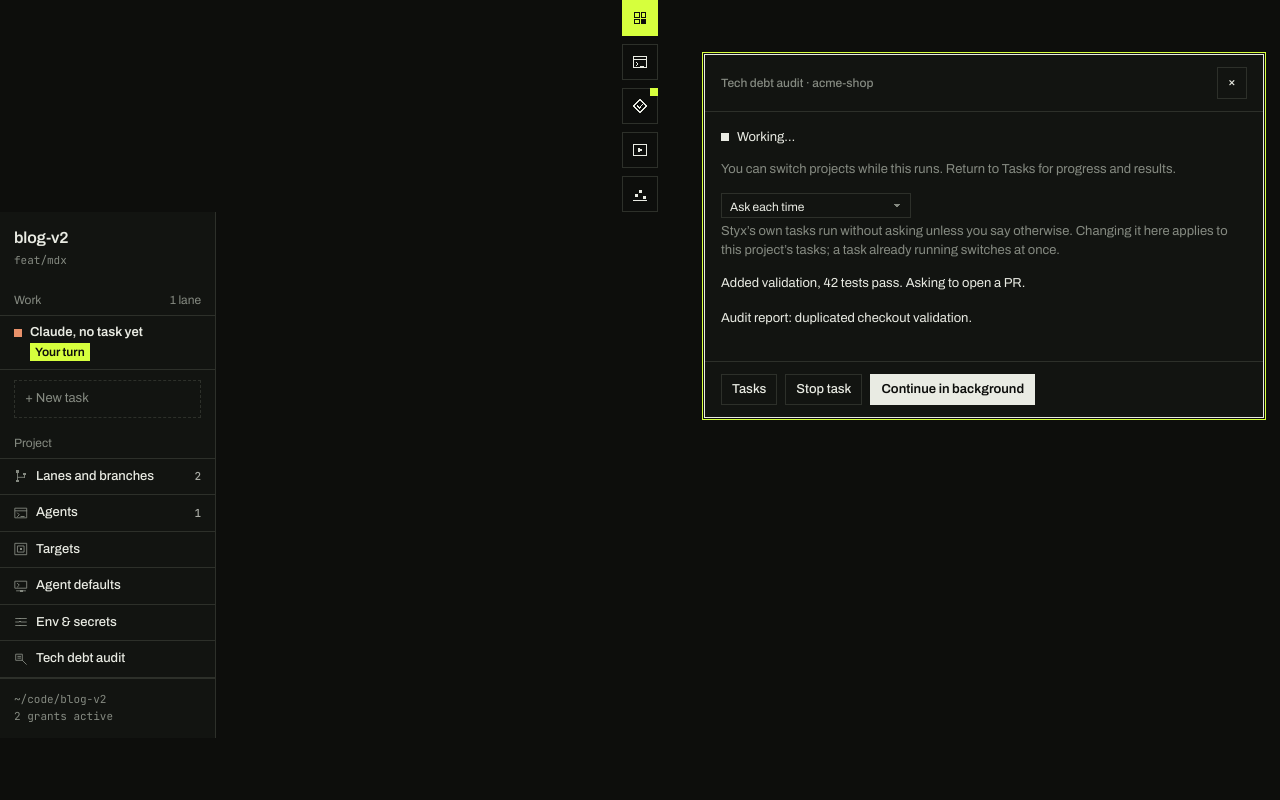
Test: background tasks › keeps the dialog modeless, supports switching project, minimizing and reopening
The width and height of the screenshot is (1280, 800).
Expected: the dialog shows "acme-shop", top-left (803, 76), bottom-right (873, 90)
Click the button "Continue in background". click: [953, 389]
box: top-left (870, 374), bottom-right (1035, 405)
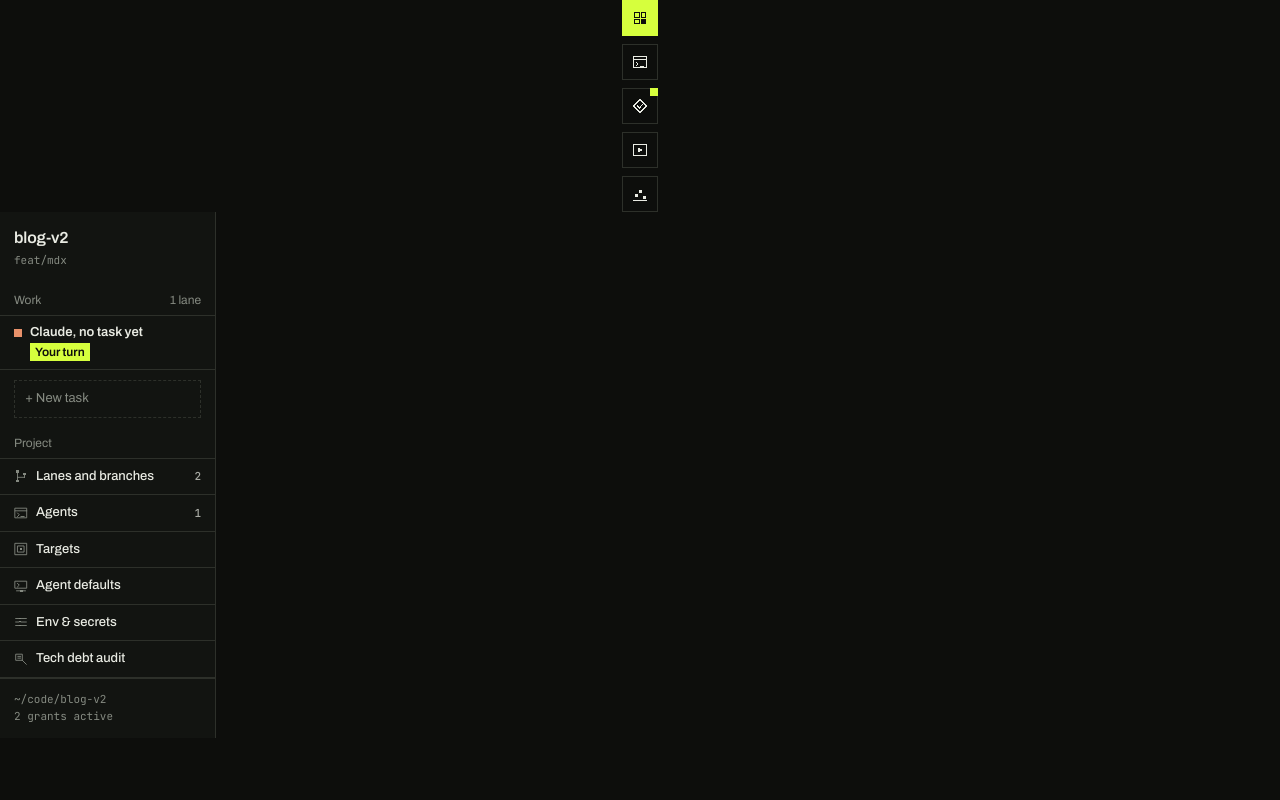
Now the dialog is gone
Click the button named "Tasks". click: [640, 150]
box: top-left (622, 132), bottom-right (658, 168)
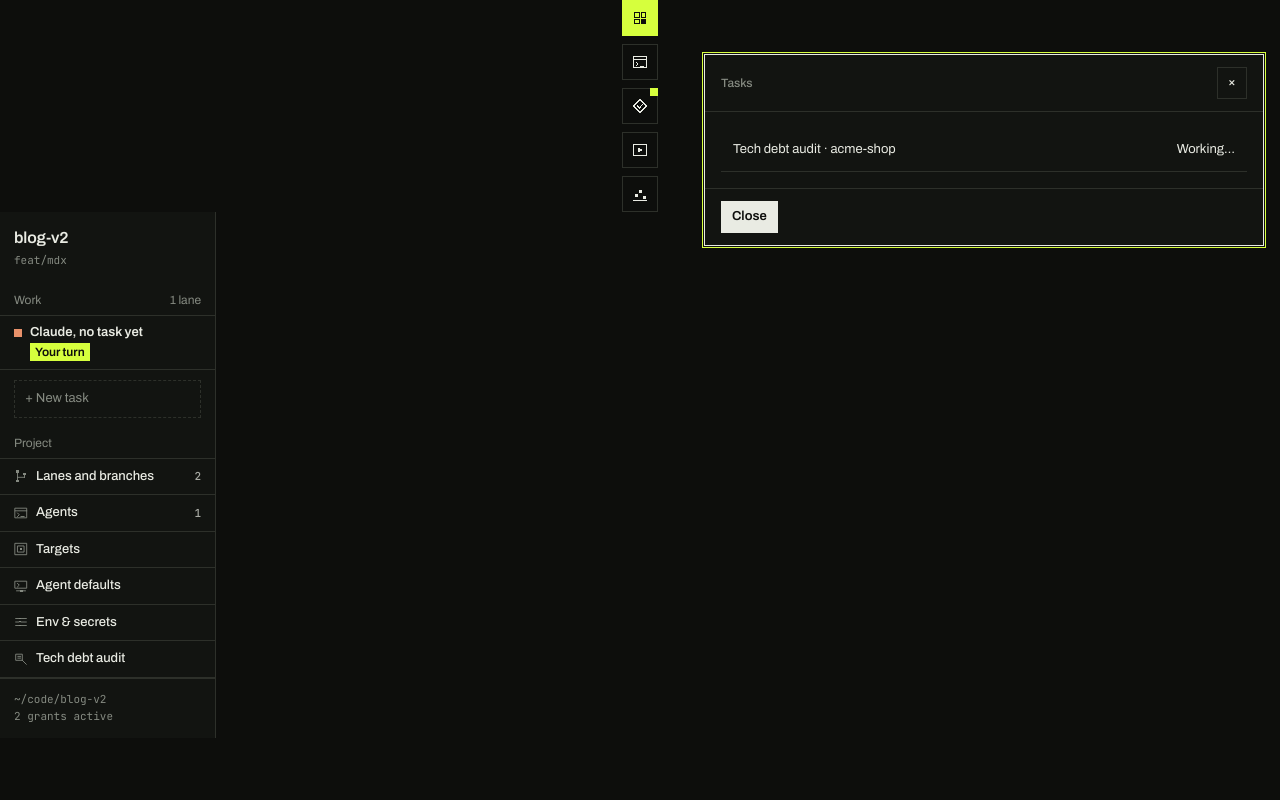
Click the button "Tech debt audit · acme-shop Working…". click: [777, 148]
box: top-left (721, 128), bottom-right (1247, 172)
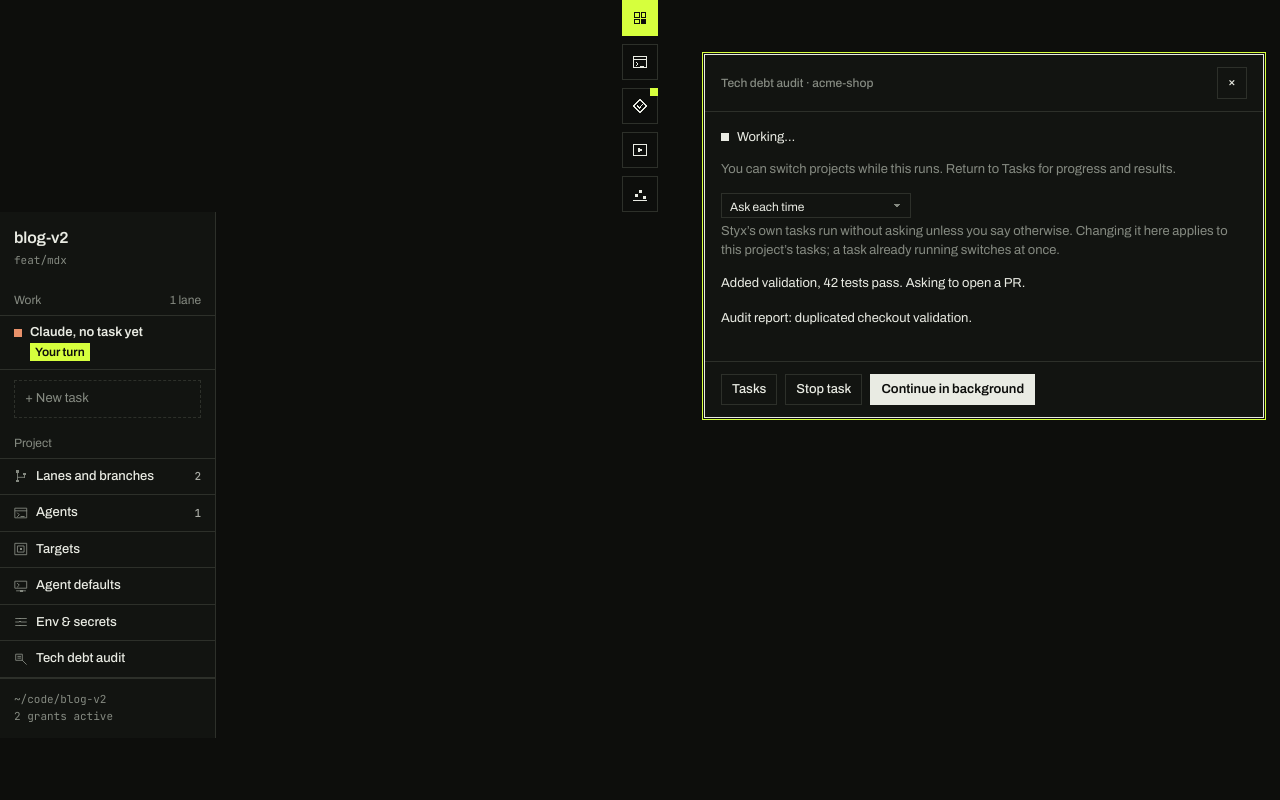
Now the dialog shows "Audit report", box top-left (721, 311), bottom-right (972, 325)
